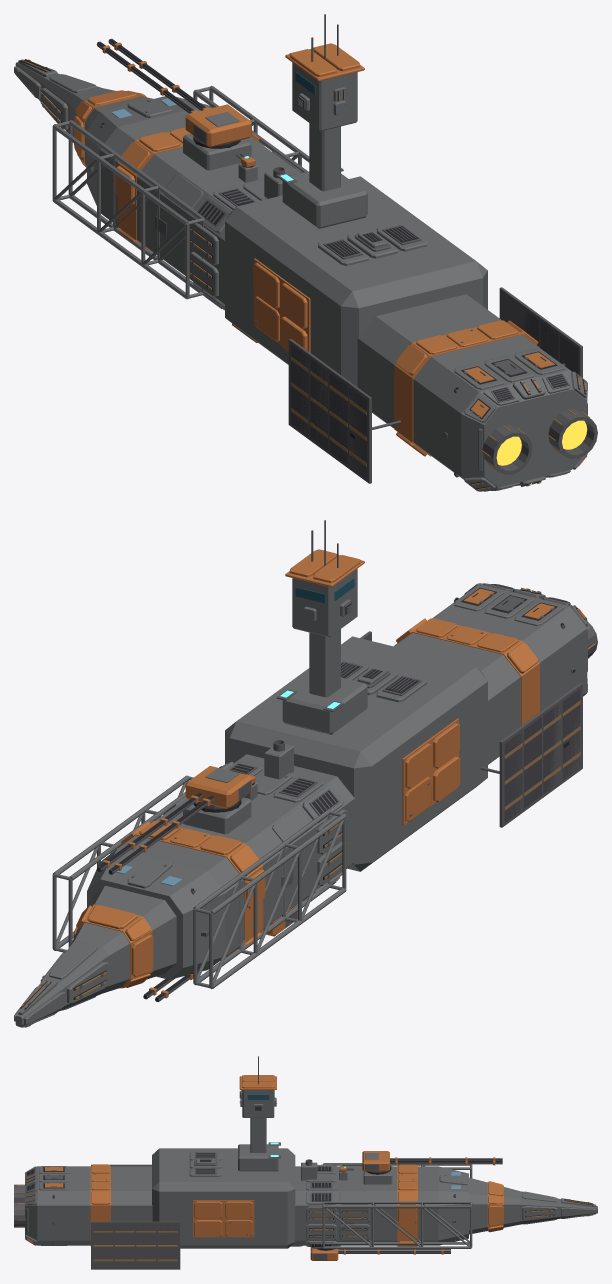
File: mars_gun_cruiser_t4.glb
3 renders of one model, top to bottom at view 1: azimuth 30°, elevation 25°; view 2: azimuth 150°, elevation 25°; view 3: azimuth 270°, elevation 25°, orthographic. The views are drawn at different scales.
Visible parts, largest first — view 1: FleetHull, mesh_turret_gun_1, mesh_recoil_gun_1; view 2: FleetHull, mesh_turret_gun_1, mesh_recoil_gun_1; view 3: FleetHull, mesh_recoil_gun_1, mesh_turret_gun_1, mesh_recoil_gun_2, mesh_turret_gun_2.
Boxes of the visible parts, x1=… form: FleetHull: x1=14, y1=14, x2=597, y2=491; mesh_turret_gun_1: x1=185, y1=104, x2=251, y2=147; mesh_recoil_gun_1: x1=96, y1=38, x2=209, y2=113; FleetHull: x1=14, y1=520, x2=597, y2=1027; mesh_turret_gun_1: x1=185, y1=766, x2=251, y2=809; mesh_recoil_gun_1: x1=96, y1=792, x2=214, y2=874; FleetHull: x1=14, y1=1056, x2=597, y2=1269; mesh_recoil_gun_1: x1=390, y1=1157, x2=502, y2=1165; mesh_turret_gun_1: x1=362, y1=1151, x2=389, y2=1172; mesh_recoil_gun_2: x1=338, y1=1249, x2=450, y2=1254; mesh_turret_gun_2: x1=310, y1=1247, x2=338, y2=1260.
Bounding box in the file's own units: 67.03 × 108 × 285.
